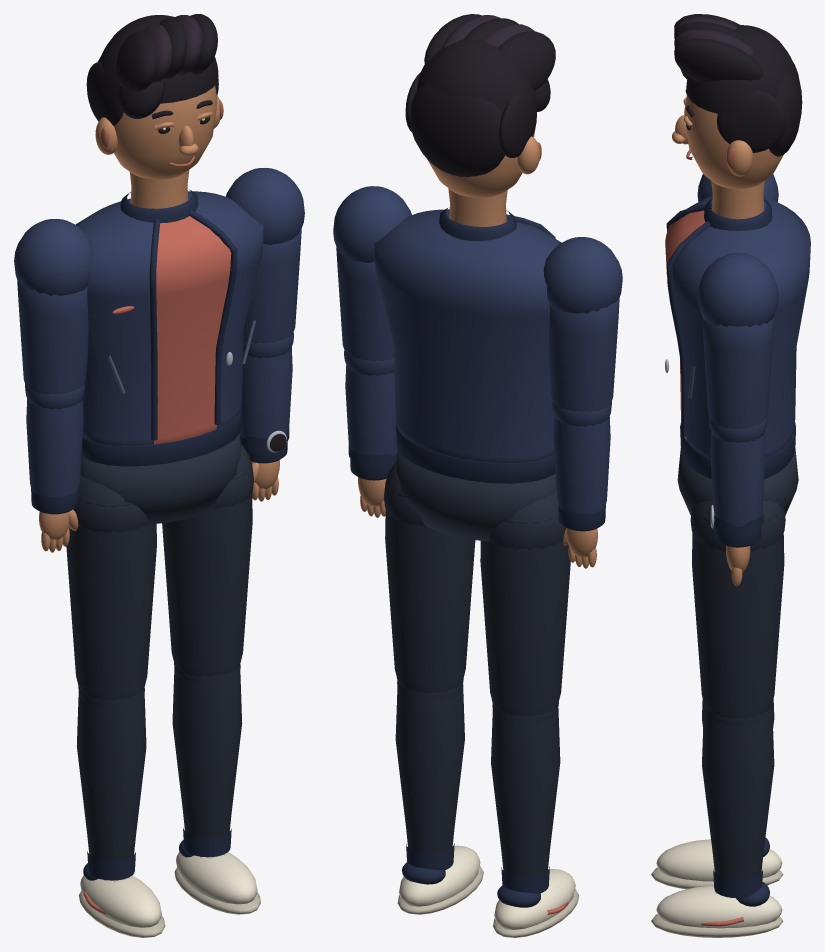
File: thread-traveler.glb
The picture shows the model from 3 angles, left to right: view 1: azimuth 30°, elevation 25°; view 2: azimuth 150°, elevation 25°; view 3: azimuth 270°, elevation 25°; orthographic projection.
Parts seen in each view (by area): view 1: chest_Midnight_indigo_twill, thighR_Charcoal_tapered_trousers, thighL_Charcoal_tapered_trousers, chest_Terracotta_shirt, upperArmR_Midnight_indigo_twill, shinL_Charcoal_tapered_trousers, shinR_Charcoal_tapered_trousers, head_Espresso_hair, upperArmL_Midnight_indigo_twill, chest_Indigo_cuffs_and_collar, hips_Charcoal_tapered_trousers, head_Warm_honey_skin (+14 smaller); view 2: chest_Midnight_indigo_twill, head_Espresso_hair, thighR_Charcoal_tapered_trousers, thighL_Charcoal_tapered_trousers, upperArmR_Midnight_indigo_twill, shinL_Charcoal_tapered_trousers, shinR_Charcoal_tapered_trousers, upperArmL_Midnight_indigo_twill, hips_Charcoal_tapered_trousers, forearmR_Midnight_indigo_twill, chest_Indigo_cuffs_and_collar, forearmL_Midnight_indigo_twill (+15 smaller); view 3: thighL_Charcoal_tapered_trousers, chest_Midnight_indigo_twill, head_Espresso_hair, upperArmL_Midnight_indigo_twill, shinL_Charcoal_tapered_trousers, forearmL_Midnight_indigo_twill, head_Warm_honey_skin, chest_Indigo_cuffs_and_collar, footL_Warm_ivory_sneakers, hips_Charcoal_tapered_trousers, footR_Warm_ivory_sneakers, chest_Warm_honey_skin (+9 smaller).
Boxes of the visible parts, bbox=[...] form: chest_Midnight_indigo_twill: bbox=[75, 191, 263, 445]; thighR_Charcoal_tapered_trousers: bbox=[66, 473, 156, 700]; thighL_Charcoal_tapered_trousers: bbox=[162, 444, 253, 676]; chest_Terracotta_shirt: bbox=[112, 216, 231, 444]; upperArmR_Midnight_indigo_twill: bbox=[14, 219, 93, 394]; shinL_Charcoal_tapered_trousers: bbox=[172, 663, 242, 837]; shinR_Charcoal_tapered_trousers: bbox=[77, 686, 146, 860]; head_Espresso_hair: bbox=[86, 14, 218, 125]; upperArmL_Midnight_indigo_twill: bbox=[226, 168, 304, 343]; chest_Indigo_cuffs_and_collar: bbox=[81, 189, 241, 466]; hips_Charcoal_tapered_trousers: bbox=[80, 434, 241, 524]; head_Warm_honey_skin: bbox=[95, 85, 220, 179]; chest_Midnight_indigo_twill: bbox=[374, 209, 561, 463]; head_Espresso_hair: bbox=[405, 14, 555, 177]; thighR_Charcoal_tapered_trousers: bbox=[480, 491, 570, 716]; thighL_Charcoal_tapered_trousers: bbox=[384, 461, 475, 693]; upperArmR_Midnight_indigo_twill: bbox=[543, 237, 622, 411]; shinL_Charcoal_tapered_trousers: bbox=[395, 679, 464, 853]; shinR_Charcoal_tapered_trousers: bbox=[491, 702, 560, 876]; upperArmL_Midnight_indigo_twill: bbox=[333, 186, 411, 361]; hips_Charcoal_tapered_trousers: bbox=[396, 451, 556, 541]; forearmR_Midnight_indigo_twill: bbox=[552, 401, 611, 513]; chest_Indigo_cuffs_and_collar: bbox=[396, 208, 555, 483]; forearmL_Midnight_indigo_twill: bbox=[344, 350, 397, 455]; thighL_Charcoal_tapered_trousers: bbox=[690, 501, 785, 718]; chest_Midnight_indigo_twill: bbox=[672, 195, 810, 458]; head_Espresso_hair: bbox=[674, 14, 802, 156]; upperArmL_Midnight_indigo_twill: bbox=[697, 253, 778, 428]; shinL_Charcoal_tapered_trousers: bbox=[702, 704, 774, 878]; forearmL_Midnight_indigo_twill: bbox=[708, 416, 767, 526]; head_Warm_honey_skin: bbox=[672, 94, 783, 188]; chest_Indigo_cuffs_and_collar: bbox=[666, 199, 795, 478]; footL_Warm_ivory_sneakers: bbox=[656, 886, 782, 928]; hips_Charcoal_tapered_trousers: bbox=[677, 448, 798, 515]; footR_Warm_ivory_sneakers: bbox=[656, 839, 782, 881]; chest_Warm_honey_skin: bbox=[711, 181, 764, 219].
Bounding box in the file's own units: 0.604 × 1.83 × 0.2993.
